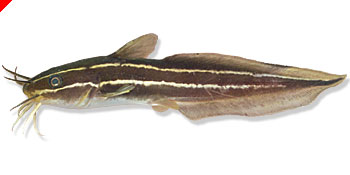gonzui: (6, 38, 350, 137)
